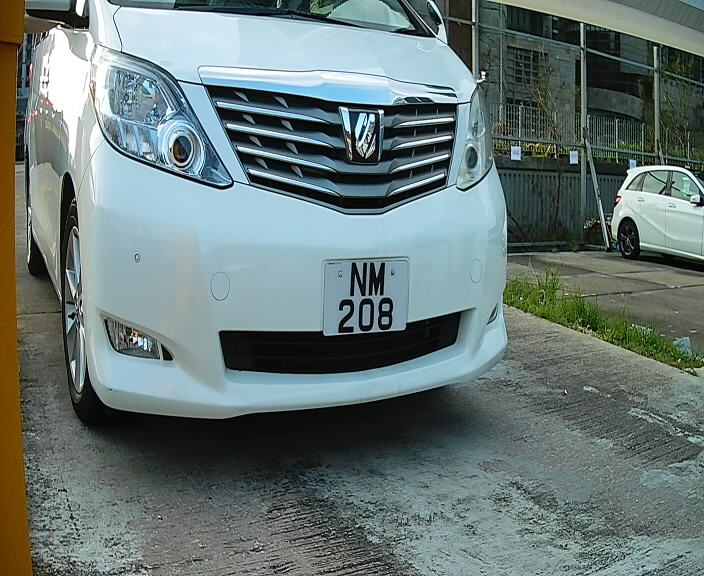License Plate: (315, 249, 421, 349)
